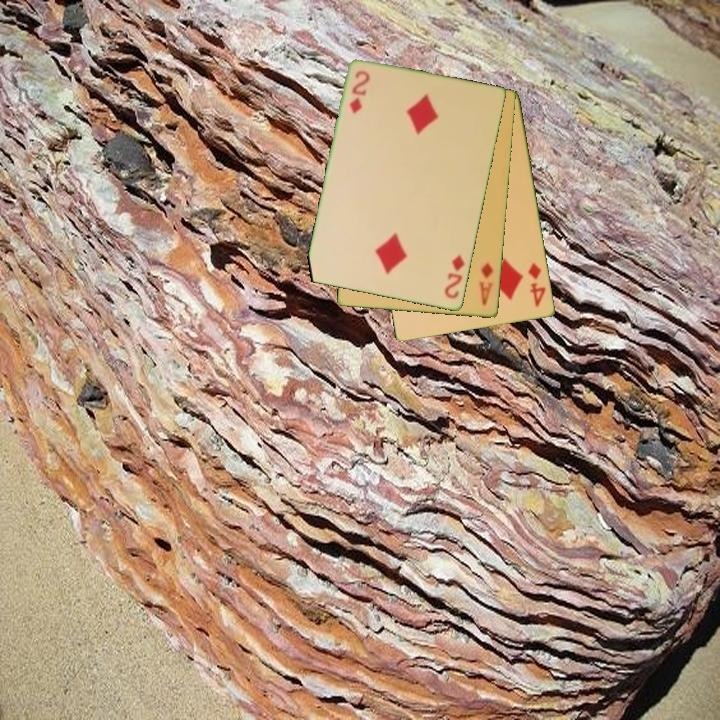2d: (441, 252, 468, 302), (346, 67, 372, 117)
4d: (525, 260, 549, 310)
Ad: (476, 259, 497, 309)
